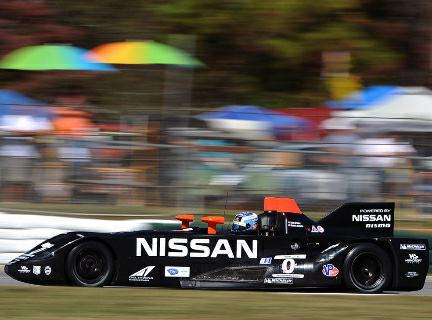日产-DeltaWing: (4, 193, 428, 297)
